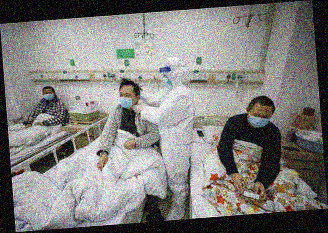with_mask: (249, 109, 273, 128), (118, 90, 135, 111), (160, 73, 172, 90), (43, 89, 54, 101)
